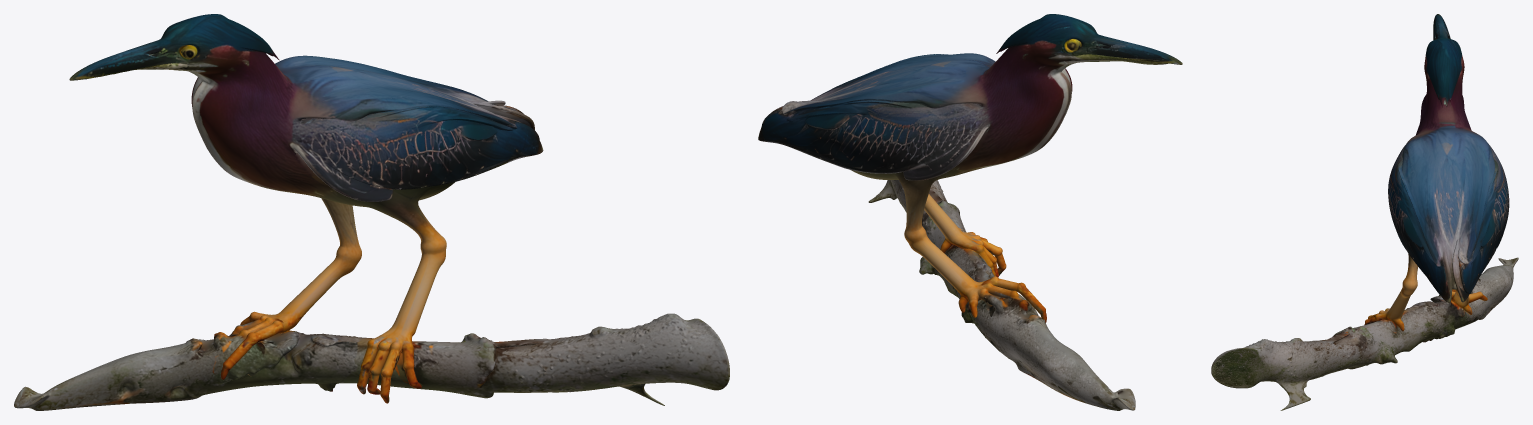
Rendered from nm__greenheron.glb.
3 renders of one model, left to right at view 1: azimuth 30°, elevation 25°; view 2: azimuth 150°, elevation 25°; view 3: azimuth 270°, elevation 25°, orthographic. The views are drawn at different scales.
Parts seen in each view (by area): view 1: Object_2, Object_3; view 2: Object_2, Object_3; view 3: Object_2, Object_3.
Part boxes in pixels (x1,y1,x2,y2): Object_2: (14,14,729,410); Object_3: (121,55,619,404); Object_2: (781,14,1182,410); Object_3: (758,17,1082,388); Object_2: (1211,14,1518,410); Object_3: (1310,43,1507,379).
Size of the model in its own units: 0.6621 by 0.5172 by 0.534.
1 material, 1 textured.
